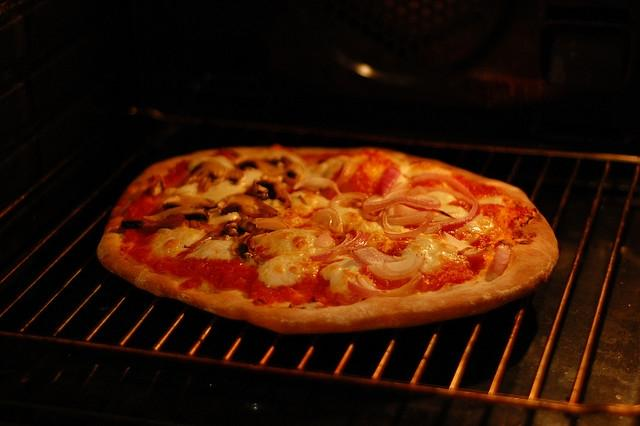mushroom: (120, 194, 217, 230), (218, 194, 280, 218), (184, 161, 228, 192), (252, 174, 292, 208), (233, 153, 284, 176), (161, 214, 185, 228), (226, 169, 243, 185), (282, 182, 288, 188)
onion: (408, 173, 479, 230), (423, 186, 476, 226), (346, 271, 425, 297), (306, 230, 358, 256), (362, 194, 440, 211), (352, 246, 410, 264), (399, 202, 456, 218), (382, 254, 418, 274), (331, 192, 369, 210), (492, 244, 510, 276), (387, 214, 428, 225)
